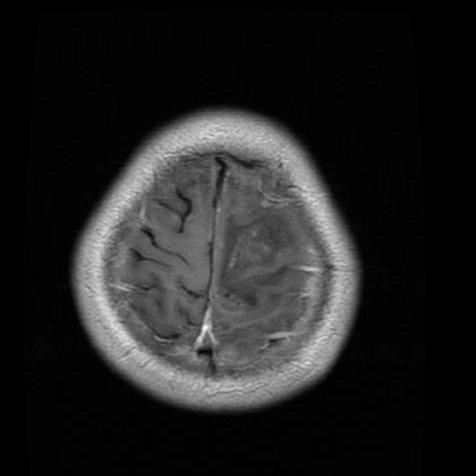Tumour-Glioma: (222, 214, 297, 305)
